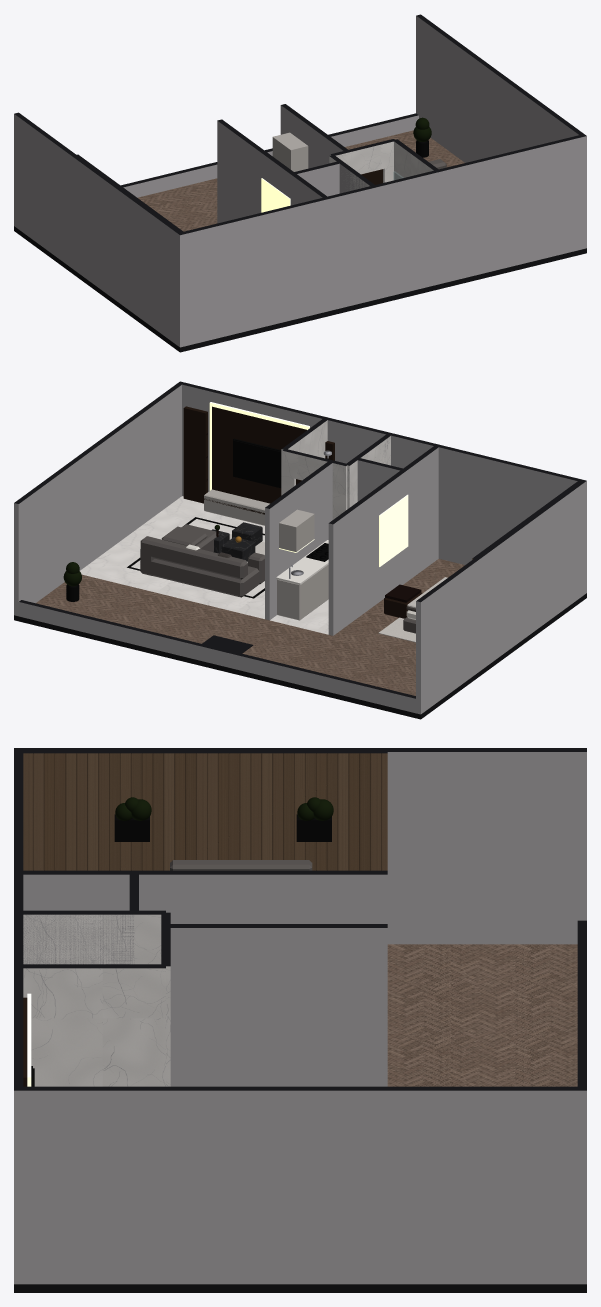
Rendered from 1-bed-apartment.glb.
3 renders of one model, top to bottom at view 1: azimuth 30°, elevation 25°; view 2: azimuth 150°, elevation 25°; view 3: azimuth 270°, elevation 25°, orthographic. The views are drawn at different scales.
Visible parts, largest first — view 1: mesh0; view 2: mesh0; view 3: mesh0.
Boxes of the visible parts, left/top/right/bottom form: mesh0: left=14, top=14, right=586, bottom=352; mesh0: left=14, top=381, right=586, bottom=719; mesh0: left=14, top=748, right=586, bottom=1292.
Bounding box in the file's own units: 10.24 × 2.82 × 7.24.
26 materials, 5 textured.
